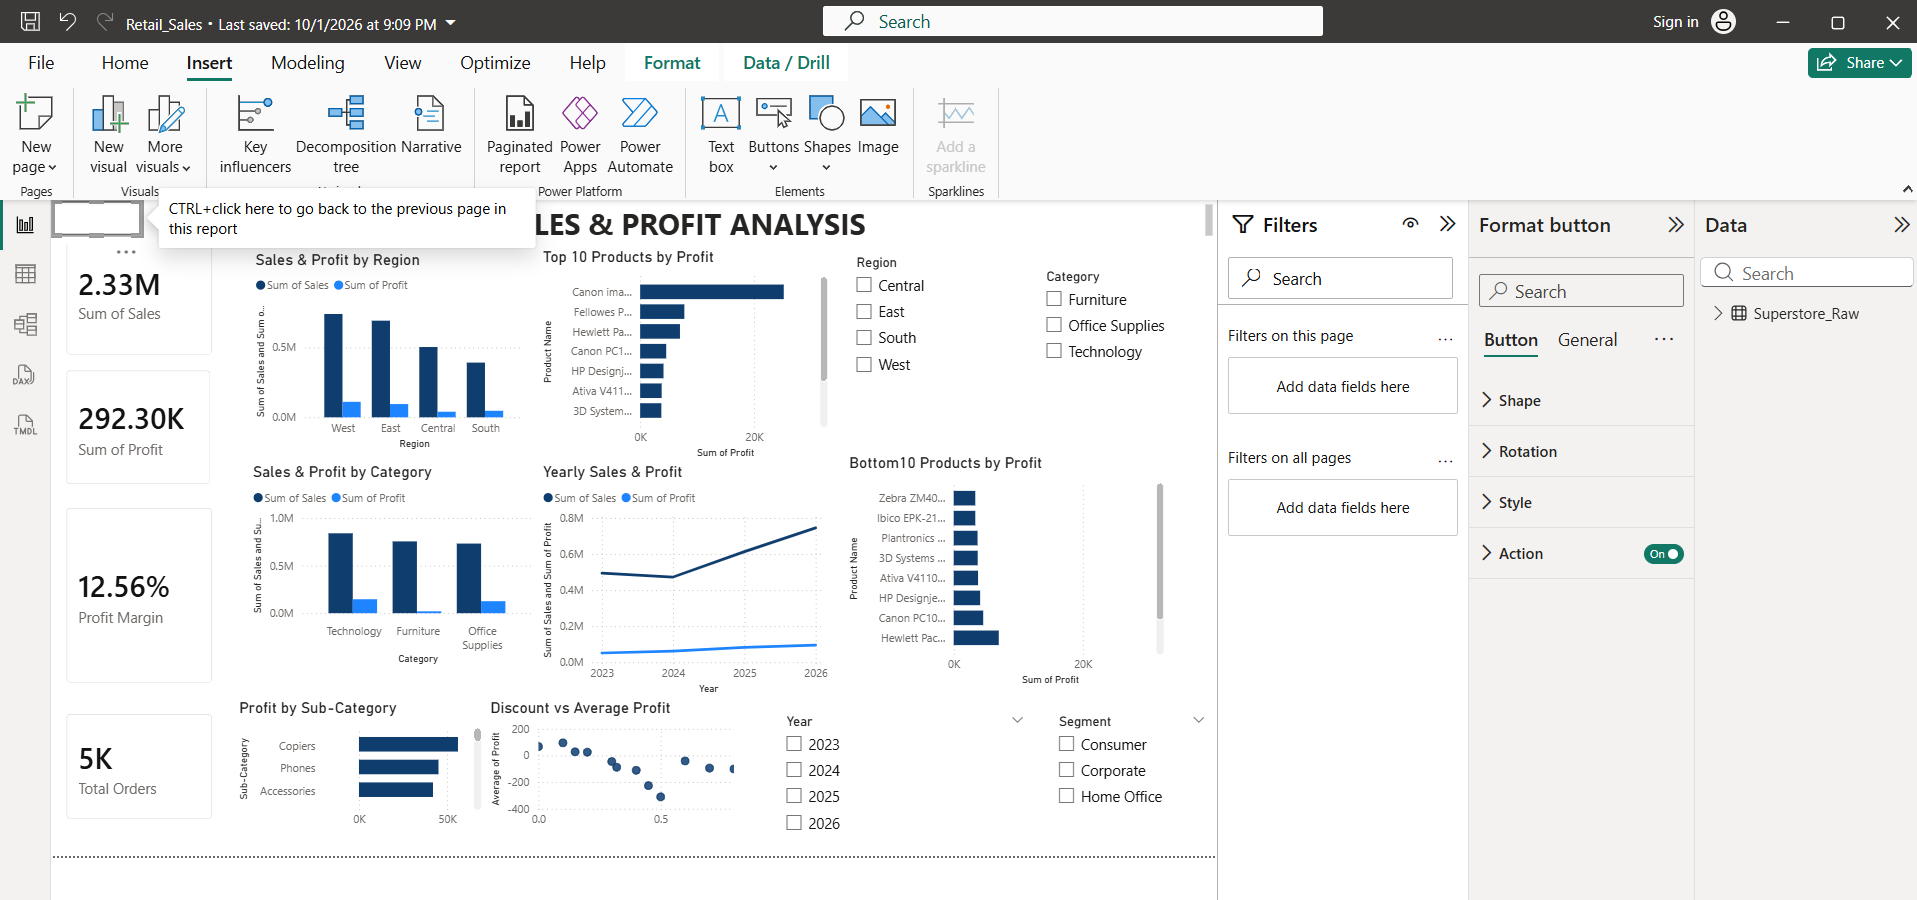

The dashboard page shown, as its layout file describes it:
{"tool":"powerbi","page":{"name":"Page 1","canvas":[1280,720],"ordinal":0},"visuals":[{"type":"clusteredColumnChart","title":"Sales & Profit by Category","fields":{"Category":["Superstore_Raw.Category"],"Y":["Sum(Superstore_Raw.Sales)","Sum(Superstore_Raw.Profit)"]},"box":[216.8,288.2,318.4,226.4],"z":0},{"type":"clusteredBarChart","title":"Profit by Sub-Category","fields":{"Category":["Superstore_Raw.Sub-Category"],"Y":["Sum(Superstore_Raw.Profit)"]},"box":[201.7,547.5,275.8,150.9],"z":1000},{"type":"clusteredColumnChart","title":"Sales & Profit by Region","fields":{"Y":["Sum(Superstore_Raw.Sales)","Sum(Superstore_Raw.Profit)"],"Category":["Superstore_Raw.Region"]},"box":[219.6,54.9,304.6,223.7],"z":2000},{"type":"lineChart","title":"Yearly Sales & Profit","fields":{"Category":["Superstore_Raw.Order Date.Variation.Date Hierarchy.Year"],"Y":["Sum(Superstore_Raw.Sales)","Sum(Superstore_Raw.Profit)"]},"box":[535.2,288.2,322.5,259.3],"z":3000},{"type":"scatterChart","title":"Discount vs Average Profit","fields":{"X":["Superstore_Raw.Discount"],"Y":["Avg(Superstore_Raw.Profit)"]},"box":[477.5,547.5,285.4,150.9],"z":4000},{"type":"clusteredBarChart","title":"Top 10 Products by Profit","fields":{"Category":["Superstore_Raw.Product Name"],"Y":["Sum(Superstore_Raw.Profit)"]},"box":[535.2,52.1,322.5,236],"z":5000},{"type":"clusteredBarChart","title":"Bottom10 Products by Profit","fields":{"Category":["Superstore_Raw.Product Name"],"Y":["Sum(Superstore_Raw.Profit)"]},"box":[871.4,278.6,355.4,259.3],"z":6000},{"type":"slicer","fields":{"Values":["Superstore_Raw.Order Date.Variation.Date Hierarchy.Year"]},"box":[794.5,558.5,285.4,150.9],"z":7000},{"type":"slicer","fields":{"Values":["Superstore_Raw.Region"]},"box":[871.4,54.9,222.3,161.9],"z":8000},{"type":"slicer","fields":{"Values":["Superstore_Raw.Category"]},"box":[1079.9,70,185.2,130.4],"z":9000},{"type":"slicer","fields":{"Values":["Superstore_Raw.Segment"]},"box":[1093.7,558.5,185.2,150.9],"z":10000},{"type":"cardVisual","fields":{"Data":["Sum(Superstore_Raw.Sales)"]},"box":[0,15.1,194.9,172.9],"z":11000},{"type":"cardVisual","fields":{"Data":["Sum(Superstore_Raw.Profit)"]},"box":[0,170.2,192.1,159.2],"z":12000},{"type":"cardVisual","fields":{"Data":["Superstore_Raw.Profit Margin"]},"box":[0,321.1,194.9,226.4],"z":13000},{"type":"cardVisual","fields":{"Data":["Superstore_Raw.Total Orders"]},"box":[0,547.5,194.9,149.6],"z":14000},{"type":"textbox","box":[0,0,1280.3,48],"z":15000},{"type":"actionButton","box":[0,0,100,40],"z":15001}]}

Visuals, with their boxes on the page's 1280x720 design canvas (x1, y1, x2, y2). These are canvas units, not pixel positions in the 1917x900 screenshot, which may show the page scaled, cropped or inside an application window:
"Sales & Profit by Category" clusteredColumnChart: (217, 288, 535, 515)
"Profit by Sub-Category" clusteredBarChart: (202, 548, 478, 698)
"Sales & Profit by Region" clusteredColumnChart: (220, 55, 524, 279)
"Yearly Sales & Profit" lineChart: (535, 288, 858, 548)
"Discount vs Average Profit" scatterChart: (478, 548, 763, 698)
"Top 10 Products by Profit" clusteredBarChart: (535, 52, 858, 288)
"Bottom10 Products by Profit" clusteredBarChart: (871, 279, 1227, 538)
slicer - Superstore_Raw.Order Date.Variation.Date Hierarchy.Year: (794, 558, 1080, 709)
slicer - Superstore_Raw.Region: (871, 55, 1094, 217)
slicer - Superstore_Raw.Category: (1080, 70, 1265, 200)
slicer - Superstore_Raw.Segment: (1094, 558, 1279, 709)
cardVisual - Sum(Superstore_Raw.Sales): (0, 15, 195, 188)
cardVisual - Sum(Superstore_Raw.Profit): (0, 170, 192, 329)
cardVisual - Superstore_Raw.Profit Margin: (0, 321, 195, 548)
cardVisual - Superstore_Raw.Total Orders: (0, 548, 195, 697)
textbox: (0, 0, 1280, 48)
actionButton: (0, 0, 100, 40)
